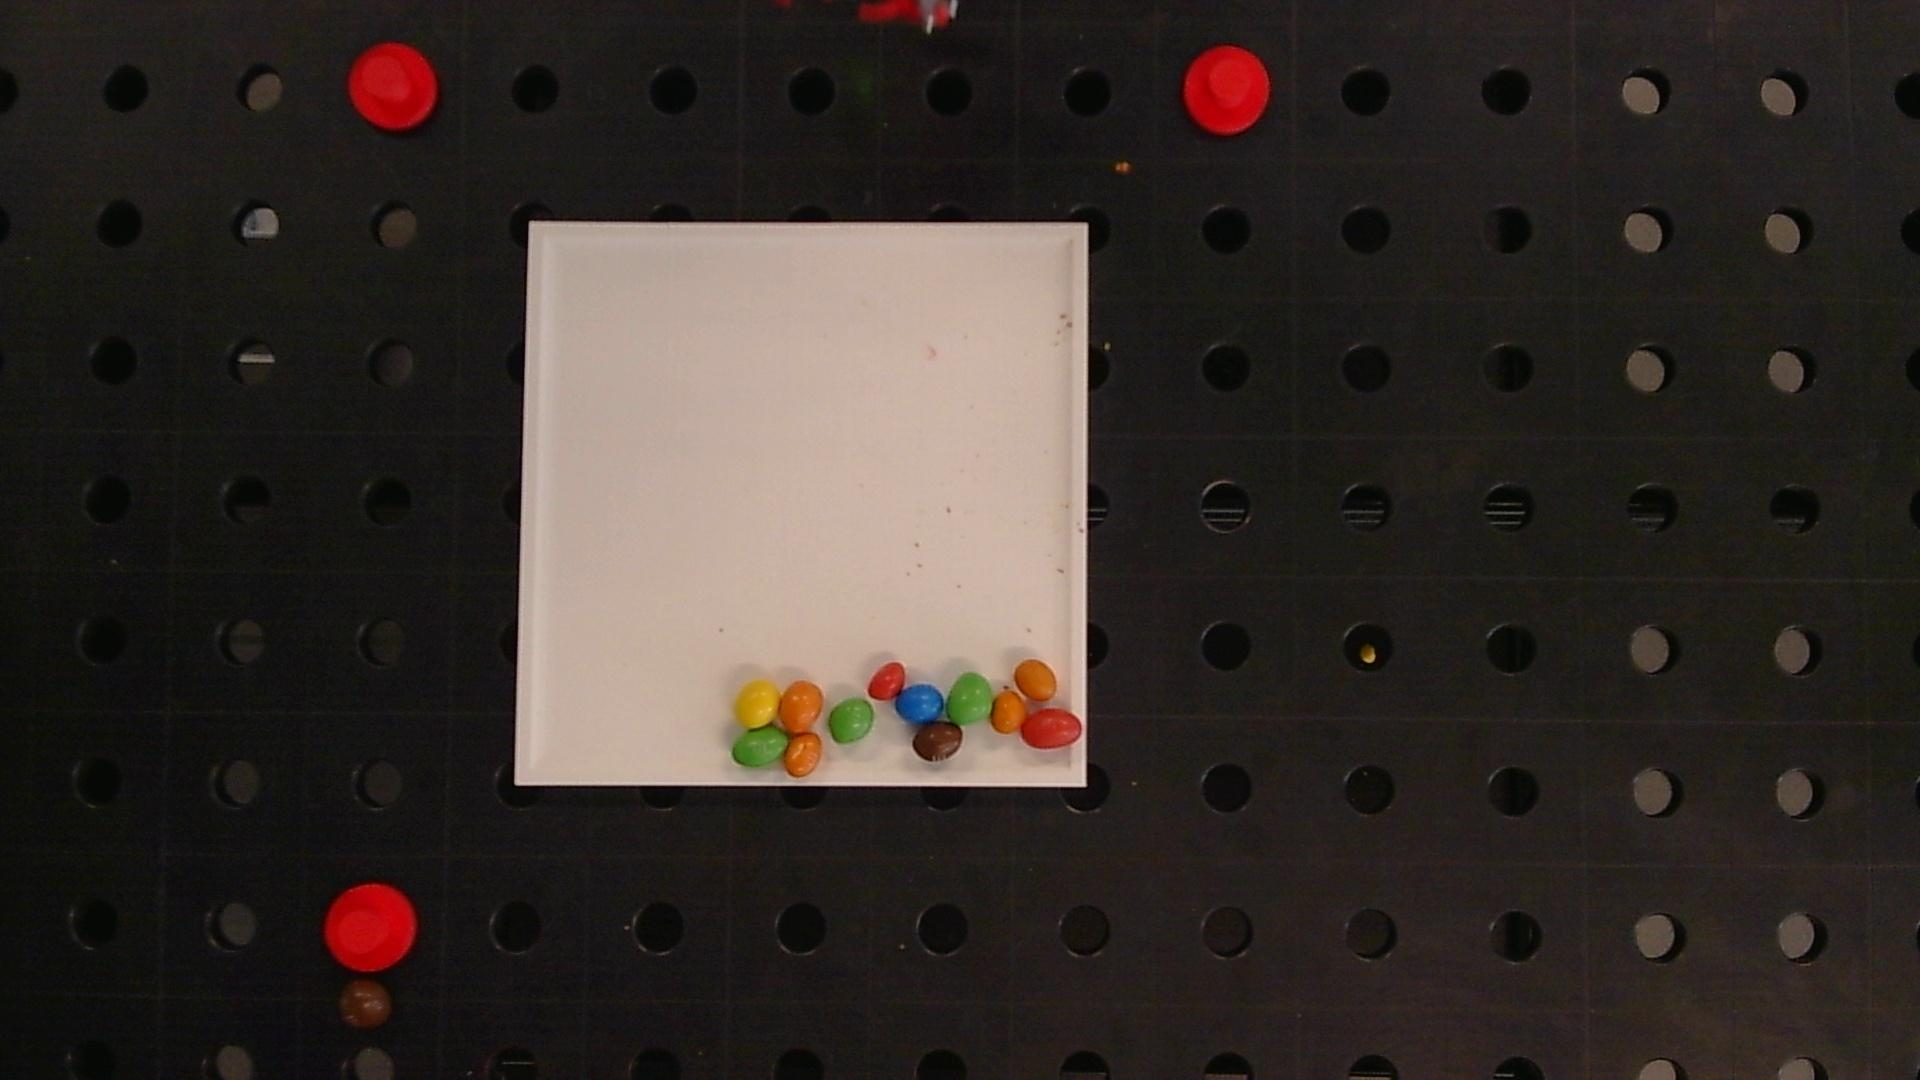blue: (895, 682, 944, 723)
brown: (913, 721, 963, 761)
green: (947, 673, 993, 723), (732, 727, 787, 767), (828, 698, 874, 742)
orange: (779, 680, 823, 731), (1014, 658, 1056, 702), (785, 732, 822, 777), (992, 690, 1025, 733)
red: (1019, 709, 1083, 748), (868, 661, 905, 699)
yellow: (736, 679, 779, 728)
